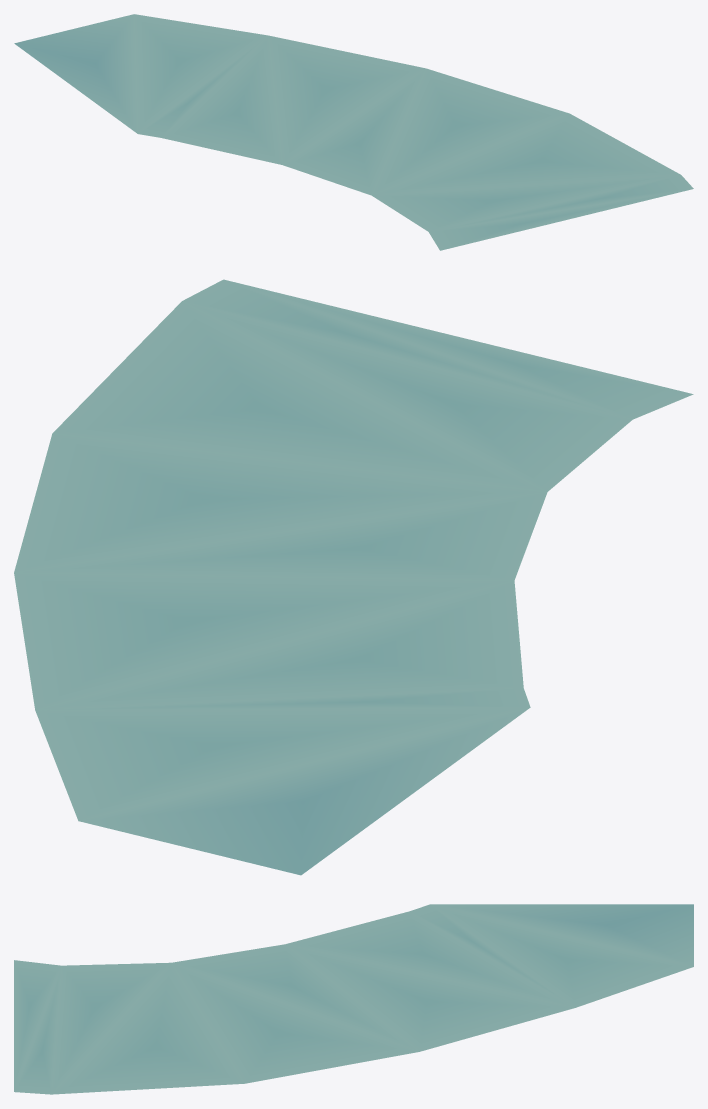
The model's file is water-16-5.glb.
The picture shows the model from 3 angles, top to bottom: view 1: azimuth 30°, elevation 25°; view 2: azimuth 150°, elevation 25°; view 3: azimuth 270°, elevation 25°; orthographic projection. The views are drawn at different scales.
Bounding box in the file's own units: 10.59 × 0 × 16.
